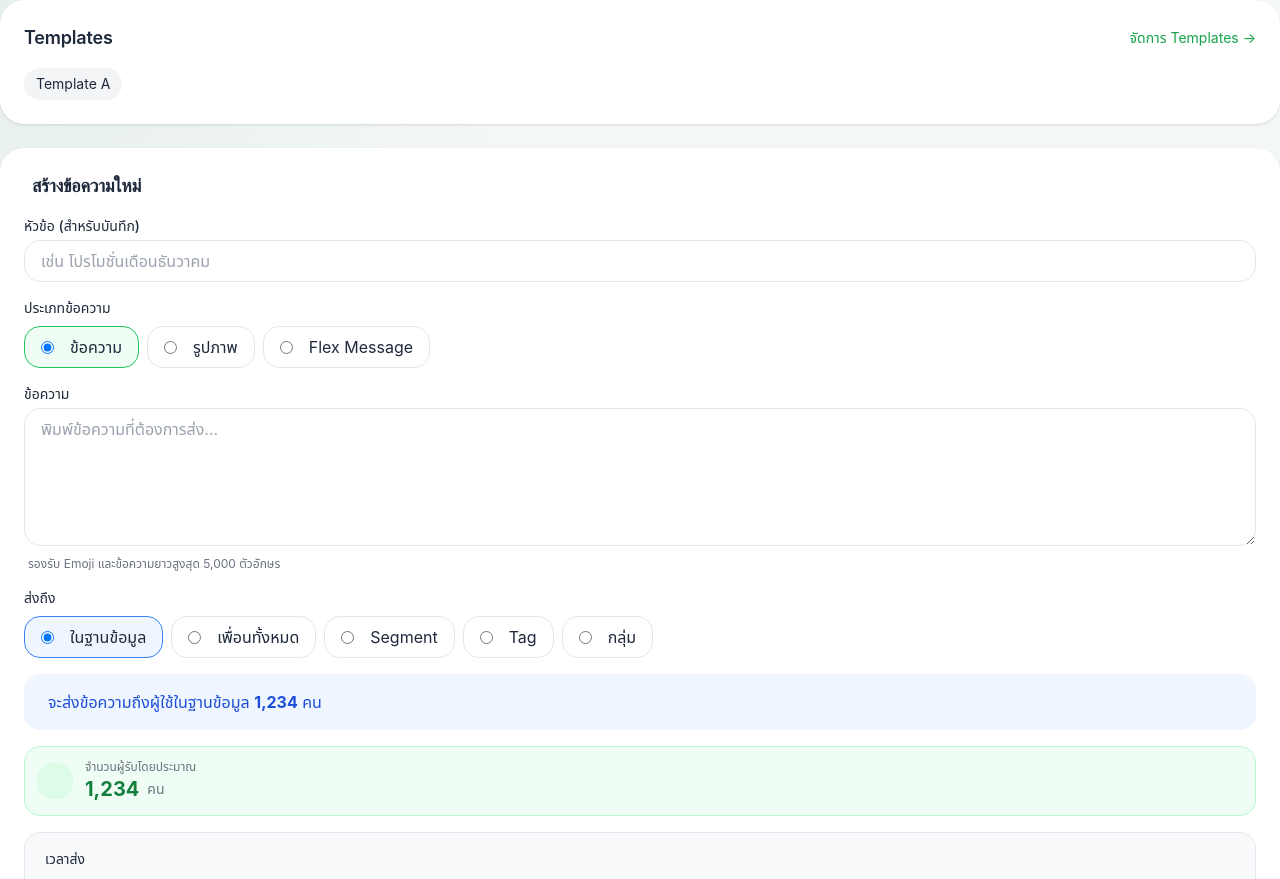
Scenario: SendComposeForm — target-type panels › switching to target_type=segment reveals the segment select
Click the radio button labelled "Segment" at (348, 637), box [341,630,354,644]
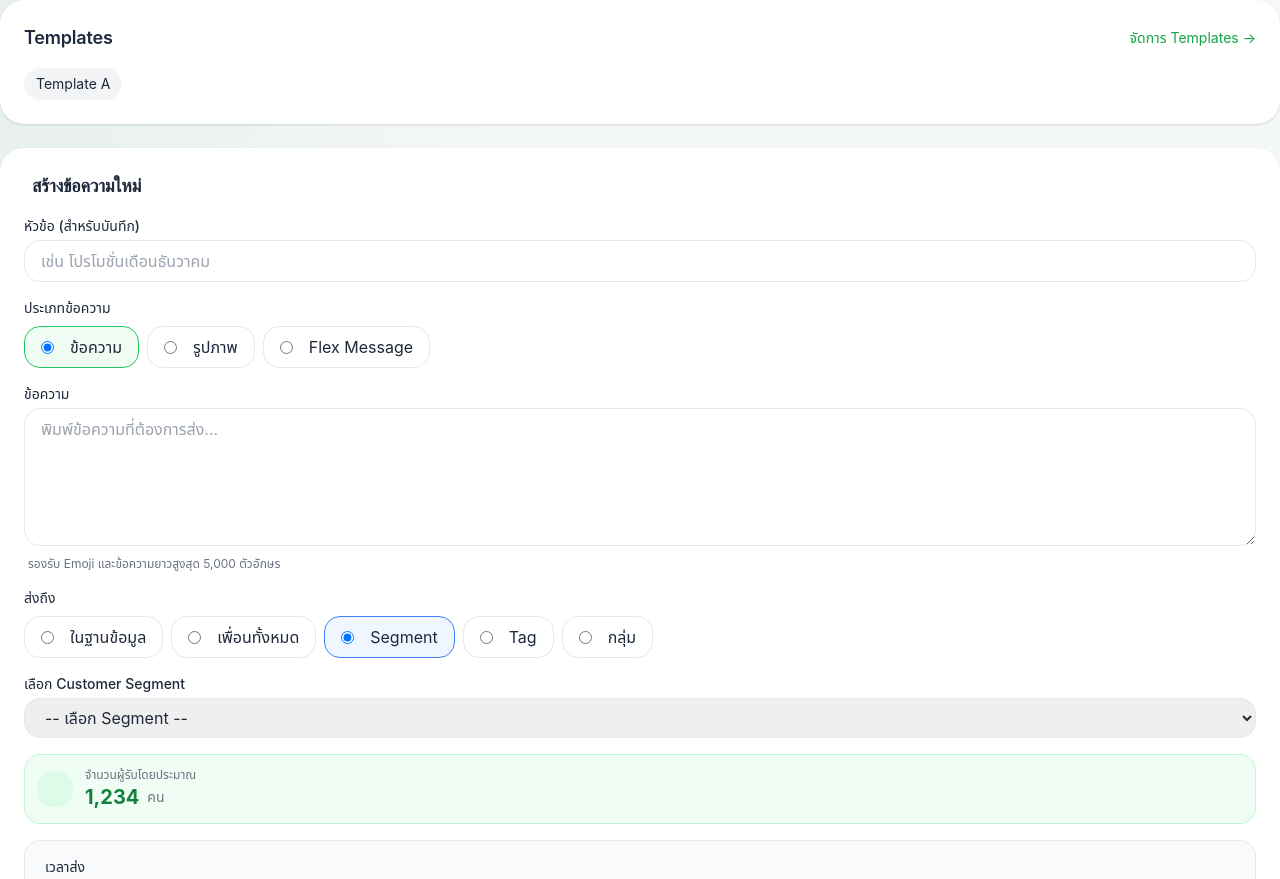
Expected: the dropdown labelled "เลือก Customer Segment" is shown, [24,698,1256,738]
